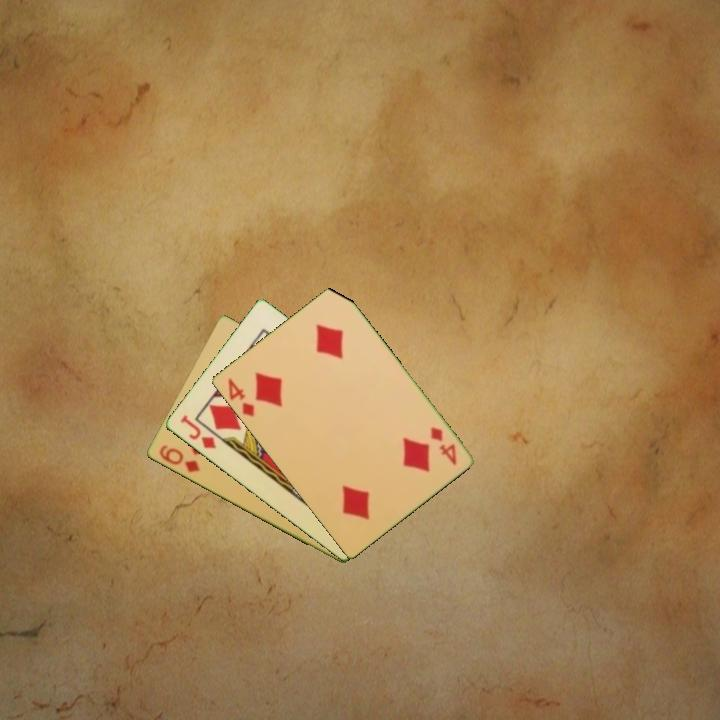4d: (224, 374, 257, 420), (426, 423, 459, 468)
6d: (155, 441, 203, 476)
Jd: (176, 412, 219, 452)
